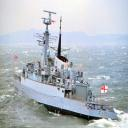Fragata: (12, 11, 119, 123)
